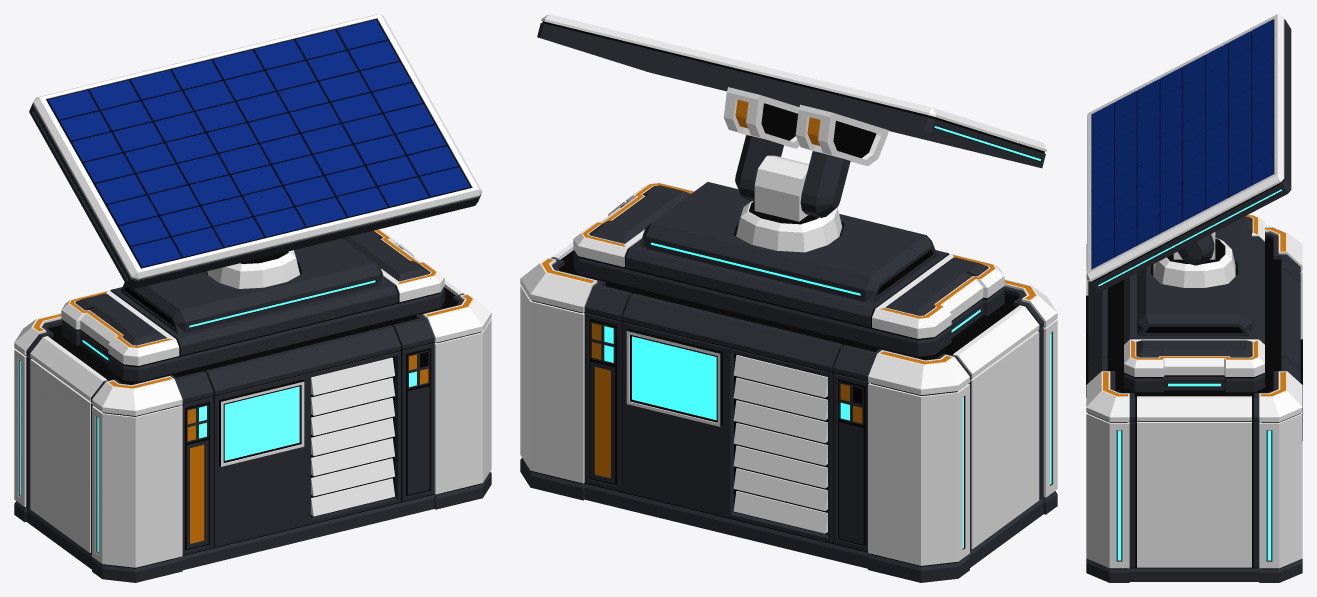
The model's file is SM_SolarPanel_T1.fbx.
3 renders of one model, left to right at view 1: azimuth 30°, elevation 25°; view 2: azimuth 150°, elevation 25°; view 3: azimuth 270°, elevation 25°, orthographic. The views are drawn at different scales.
Parts seen in each view (by area): view 1: SM_SolarPanel_T1_Base, SM_SolarPanel_T1_Panel; view 2: SM_SolarPanel_T1_Base, SM_SolarPanel_T1_Panel, SM_SolarPanel_T1_Rotor; view 3: SM_SolarPanel_T1_Base, SM_SolarPanel_T1_Panel.
Part boxes in pixels (x1,y1,x2,y2): SM_SolarPanel_T1_Base: (14, 229, 491, 582); SM_SolarPanel_T1_Panel: (29, 14, 482, 288); SM_SolarPanel_T1_Base: (520, 182, 1057, 582); SM_SolarPanel_T1_Panel: (537, 14, 1046, 217); SM_SolarPanel_T1_Rotor: (754, 155, 809, 221); SM_SolarPanel_T1_Base: (1086, 214, 1302, 582); SM_SolarPanel_T1_Panel: (1087, 14, 1291, 292).
Size of the model in its own units: 200 by 202 by 100.
